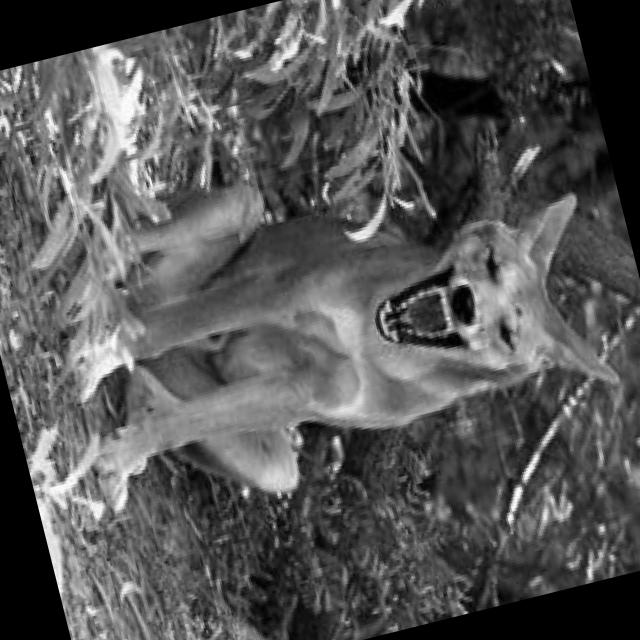sitting: (26, 84, 640, 556)
